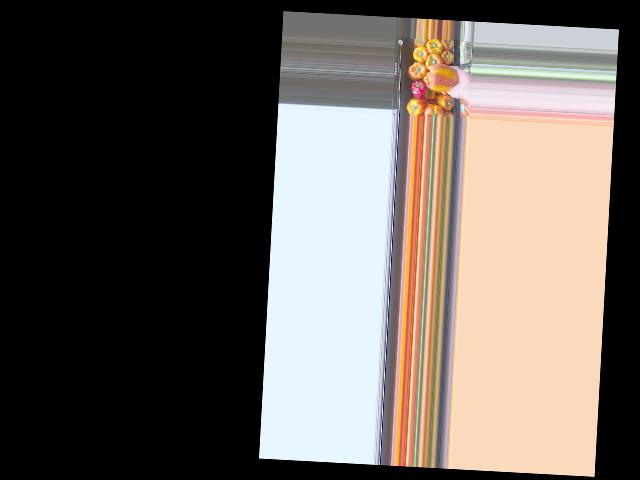bell_pepper: (436, 93, 452, 112)
